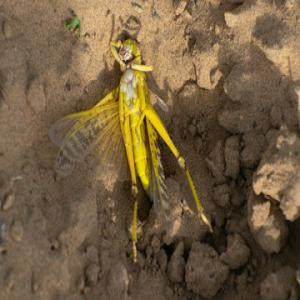locust: (100, 34, 199, 263)
